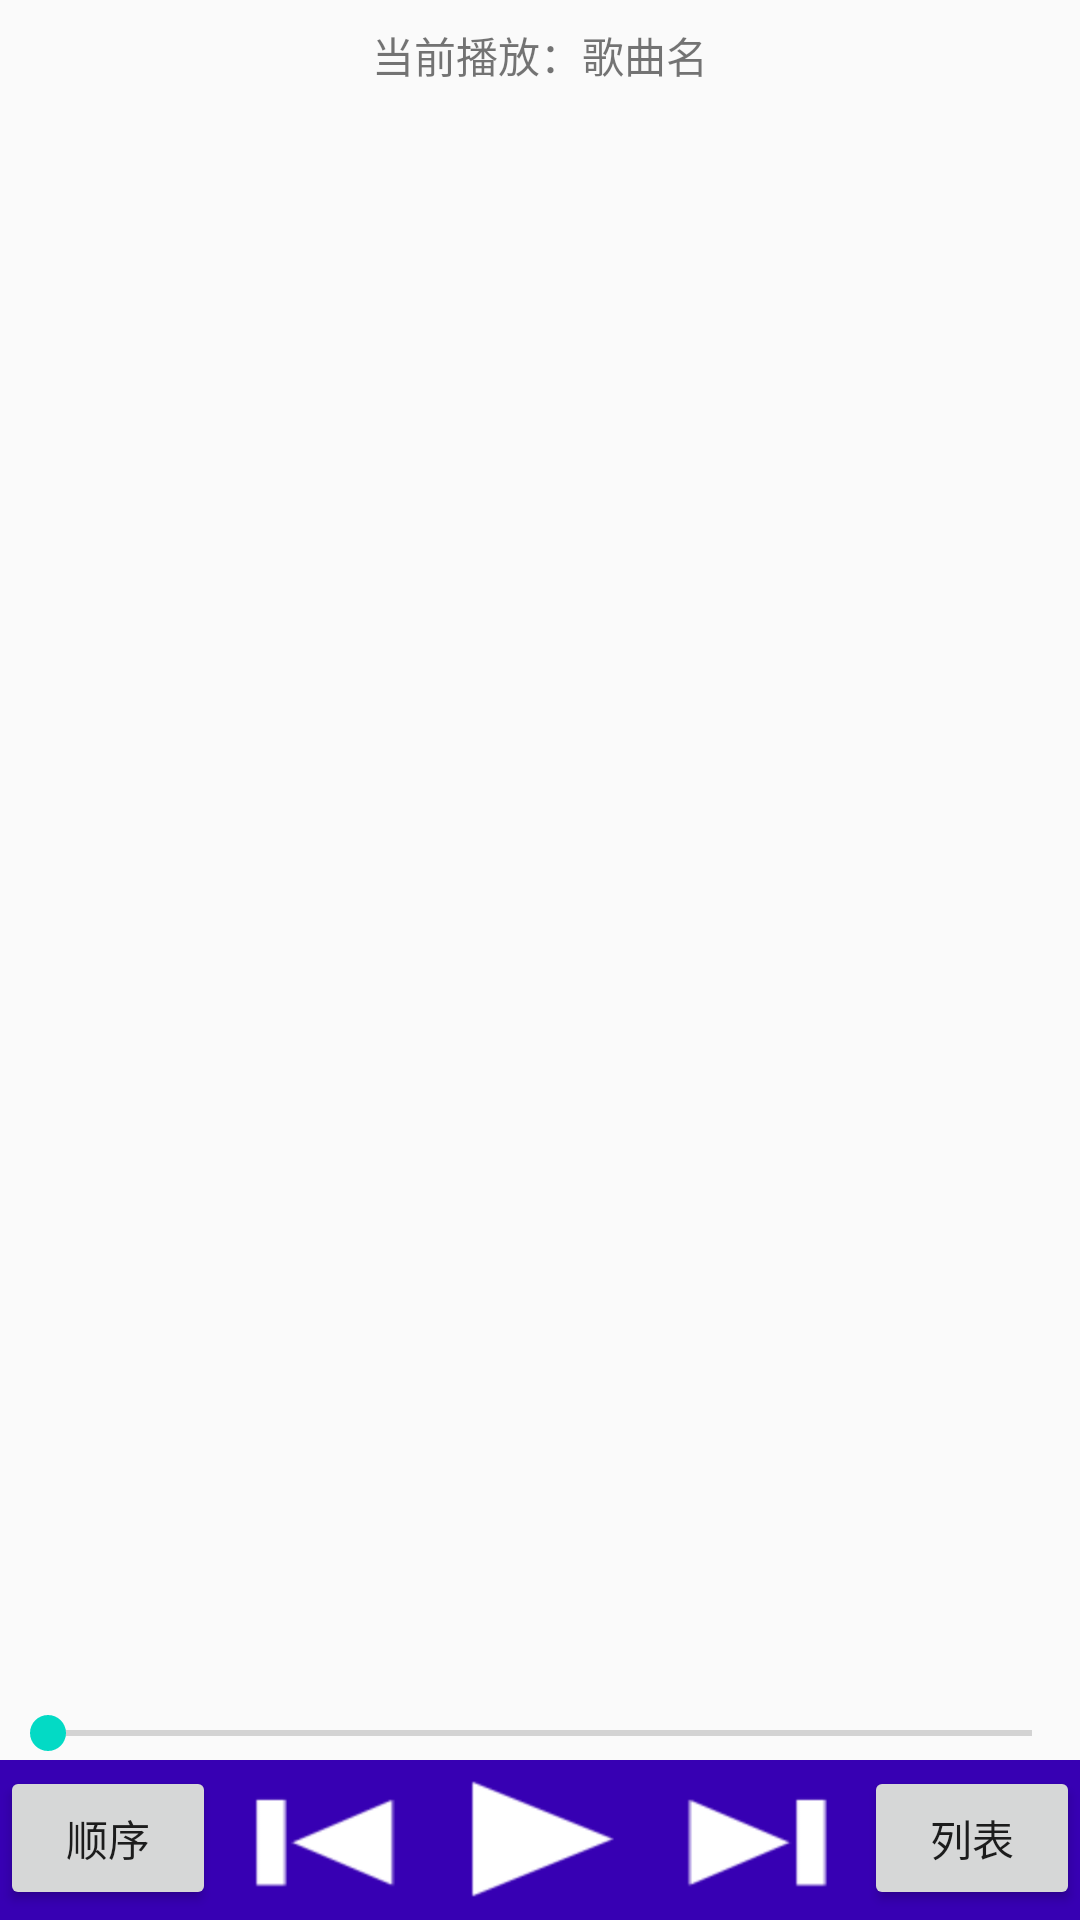

Where to tap for icons on this 1080×1920 app screen, as [x,y]:
next: [757,1843]
pre: [325,1843]
